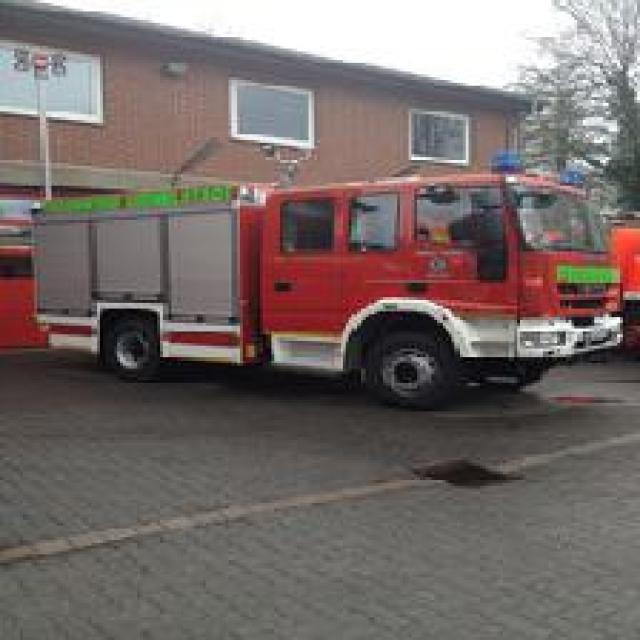Fire-truck: (25, 152, 626, 408)
